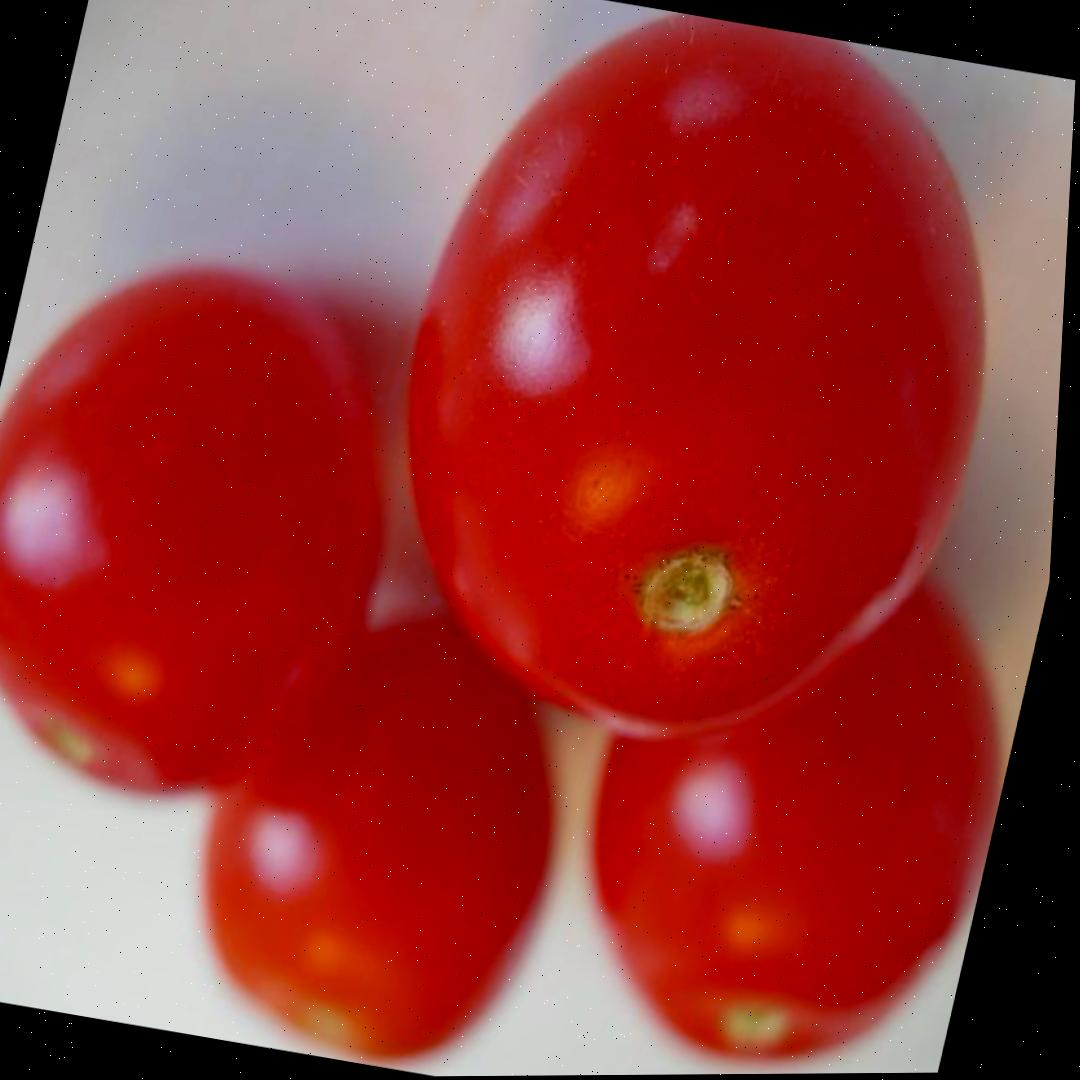matang: (329, 0, 1059, 787), (535, 520, 1051, 1076), (0, 237, 450, 831), (158, 584, 601, 1078)
